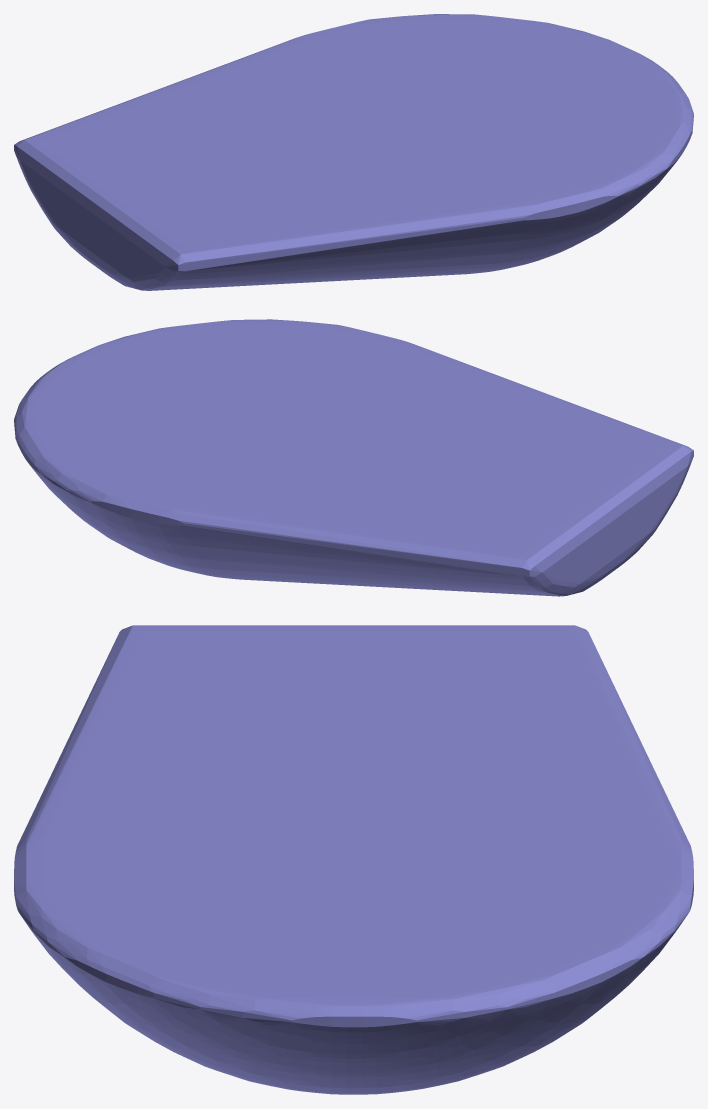
File: right_elbow_link_part_12.obj
3 renders of one model, top to bottom at view 1: azimuth 30°, elevation 25°; view 2: azimuth 150°, elevation 25°; view 3: azimuth 270°, elevation 25°, orthographic. The views are drawn at different scales.
Bounding box in the file's own units: 0.0851 × 0.0195 × 0.0625.
